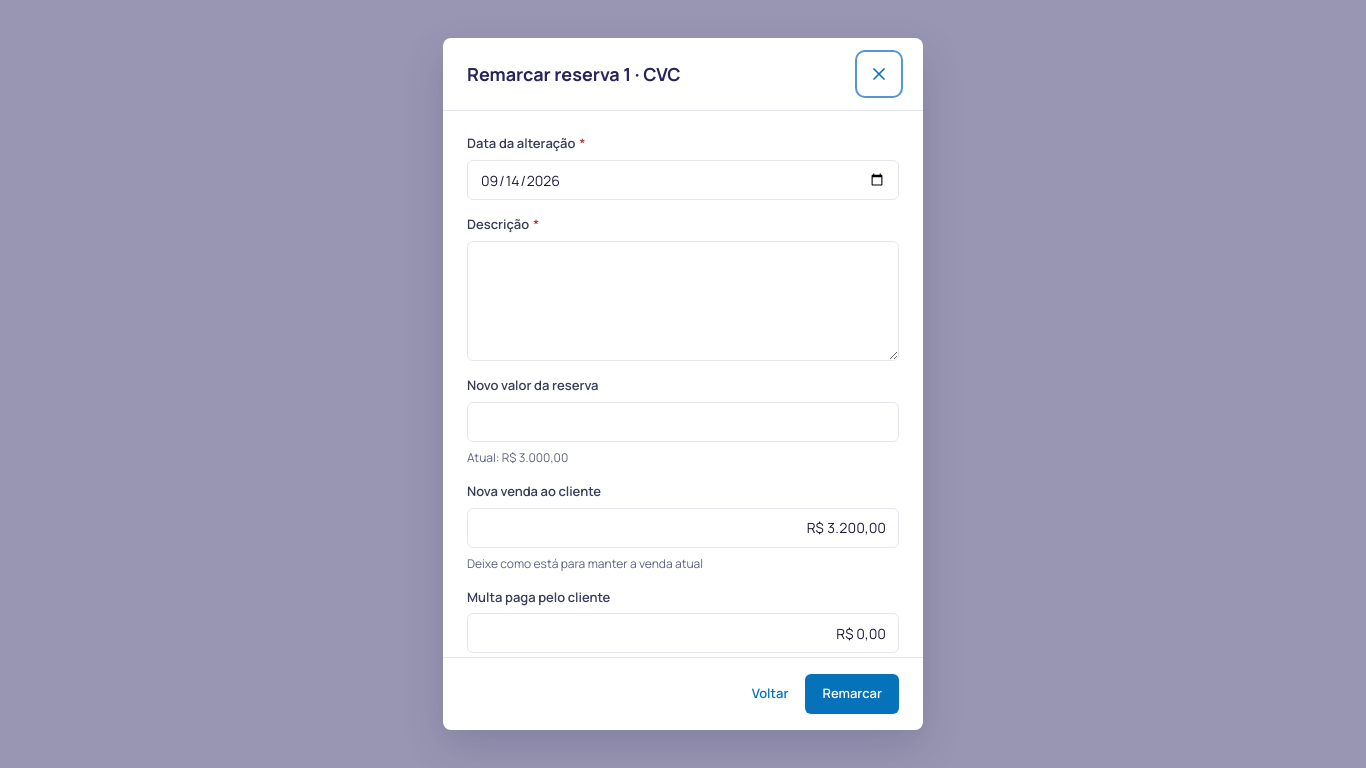
Test: A12: erro do back esperado_negativo aparece sob 'Nova venda ao cliente'
Type "Troca de acomodação" into the text box labelled "Descrição *" at (683, 301), box [467, 241, 899, 361]
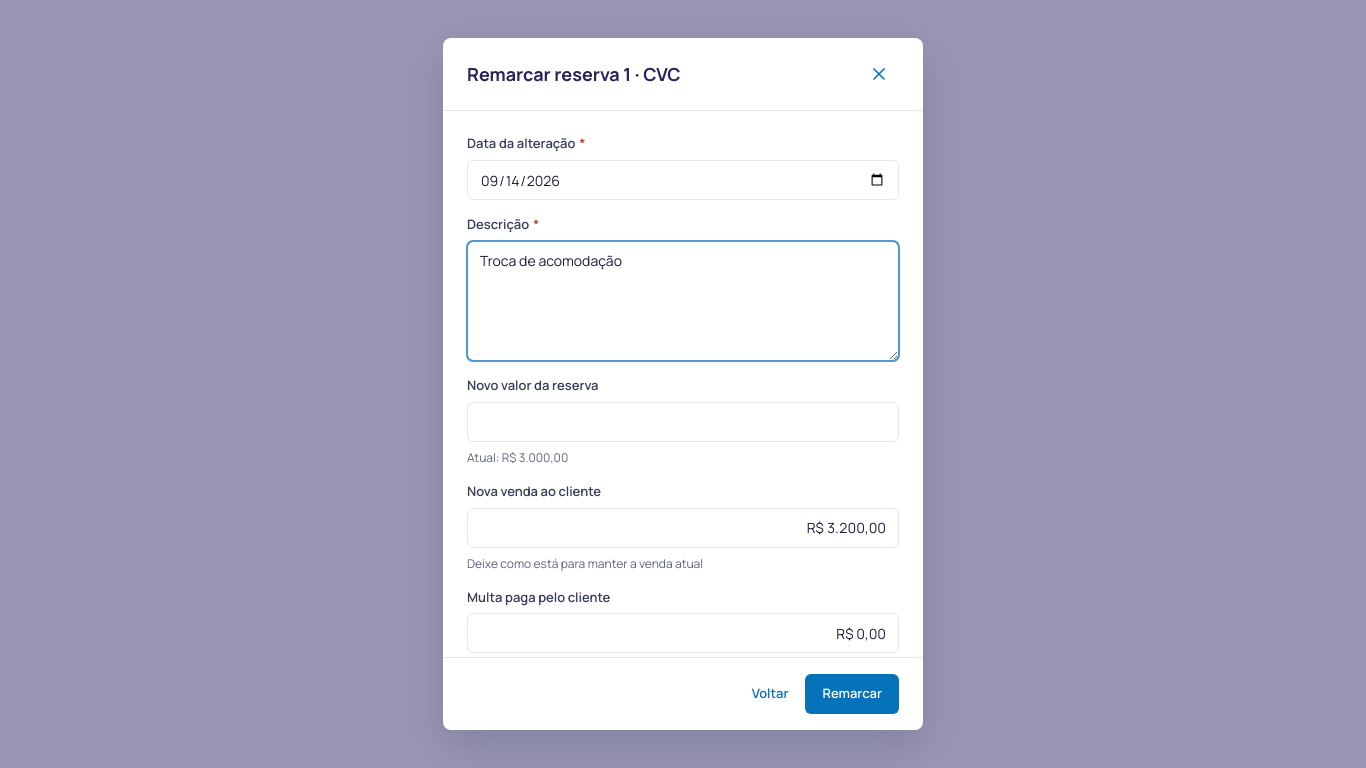
Click the button "Remarcar" at (852, 694), box [806, 674, 899, 714]
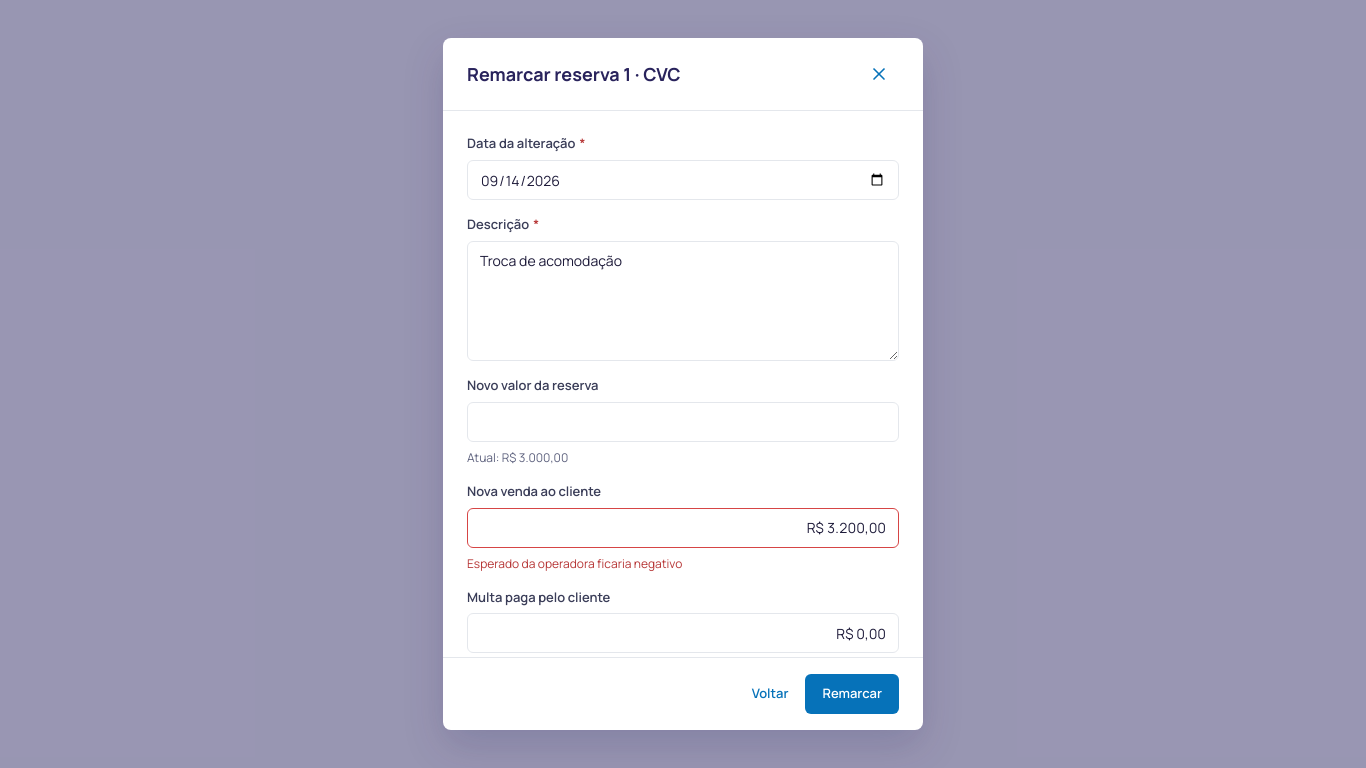
Expected: the text "Esperado da operadora ficaria negativo" is shown, [467, 555, 682, 572]
